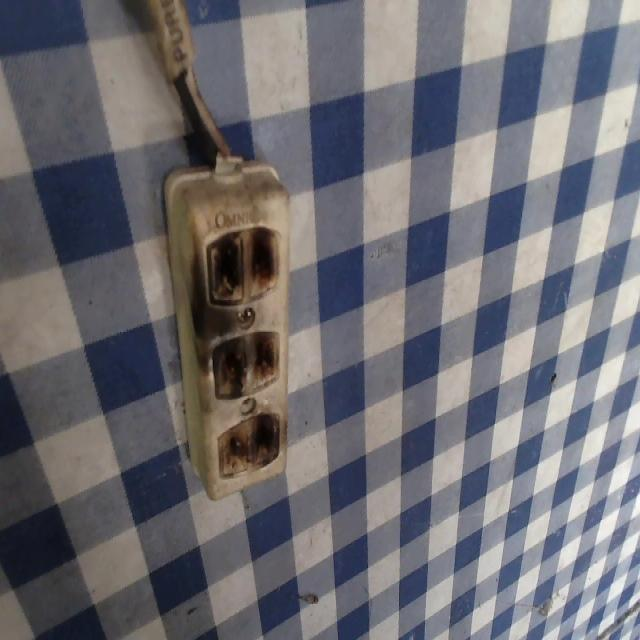-: (202, 220, 281, 308), (209, 325, 279, 400), (211, 410, 280, 474)
